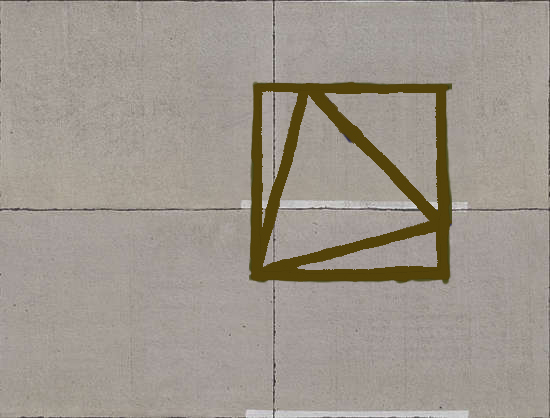marker: (247, 78, 458, 289)
